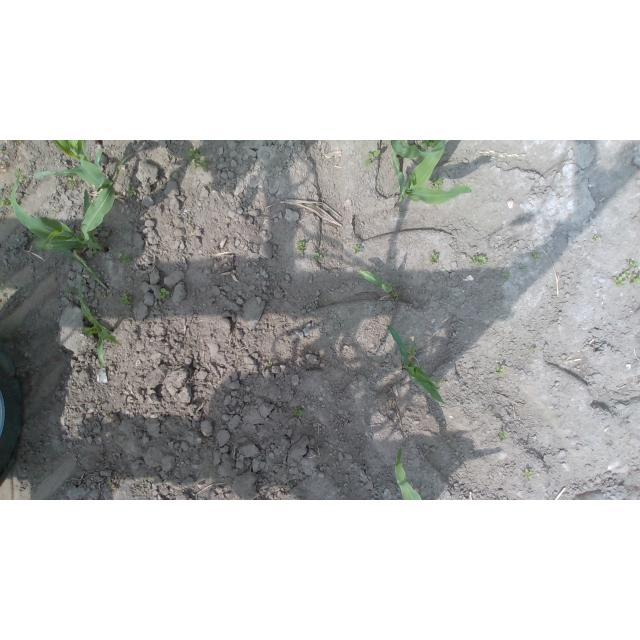Maize: (11, 153, 134, 288), (386, 324, 462, 409), (393, 140, 472, 205), (76, 275, 120, 368), (33, 140, 112, 189), (394, 446, 422, 500), (389, 141, 451, 160), (357, 269, 394, 295)
Weeds: (613, 261, 640, 287), (186, 146, 209, 172), (418, 140, 443, 152), (365, 150, 380, 166), (471, 253, 487, 267), (119, 253, 135, 267), (88, 245, 102, 259), (121, 293, 134, 308), (431, 176, 444, 191), (12, 167, 24, 181), (156, 288, 170, 300), (66, 178, 77, 191), (522, 470, 534, 481), (1, 197, 12, 208), (429, 252, 439, 264), (127, 185, 137, 197), (496, 365, 506, 376), (296, 240, 306, 250), (532, 251, 541, 261), (294, 407, 303, 417), (499, 430, 508, 439), (315, 252, 323, 262), (64, 286, 73, 294), (354, 245, 362, 254), (520, 264, 527, 272), (502, 273, 510, 280), (592, 234, 598, 242), (50, 207, 56, 214), (441, 378, 447, 385), (2, 161, 7, 168), (267, 361, 272, 368), (108, 479, 112, 487), (0, 285, 4, 293), (532, 348, 538, 353), (0, 146, 4, 153), (16, 199, 19, 204)
